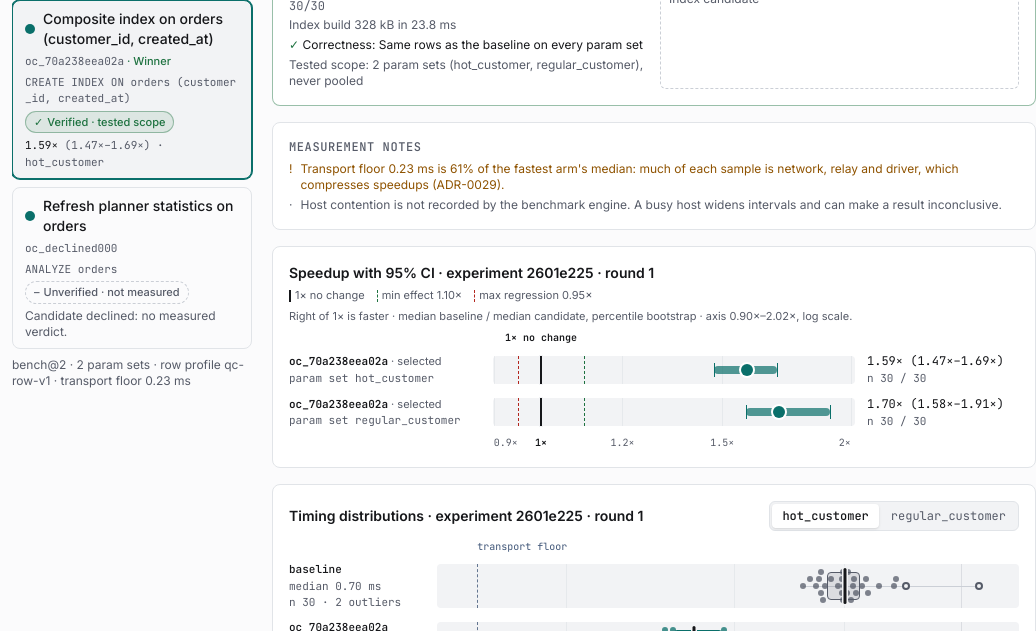
param sets are shown one at a time, never pooled
The image size is (1036, 631).
Click the tab "regular_customer": (948, 516) [881, 504, 1016, 528]
(page scrolled)
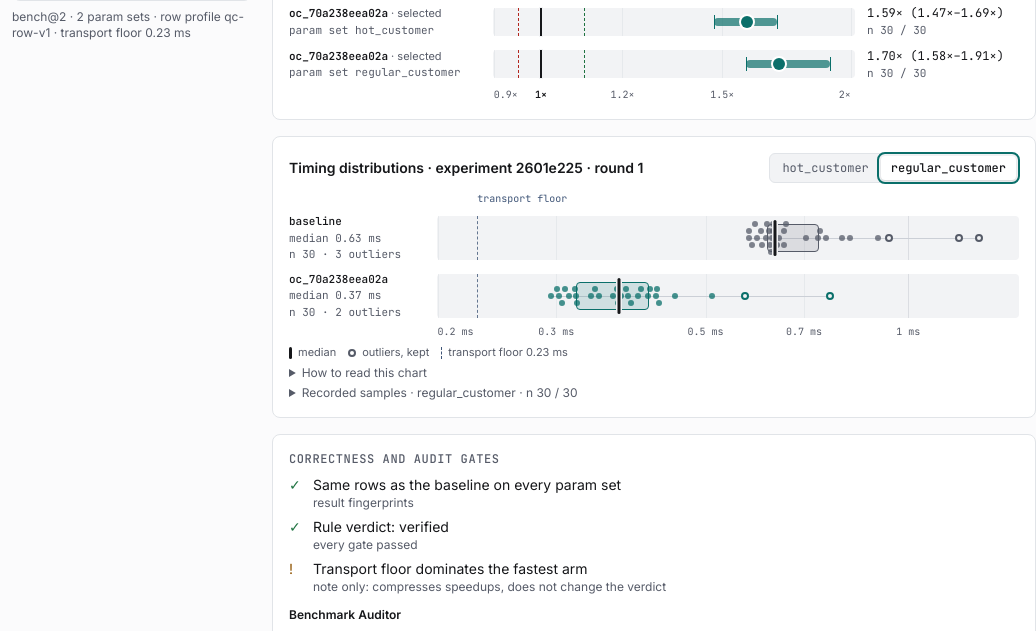
expect the picture named "param set regular_customer" is shown: met, box [289, 191, 1019, 320]
